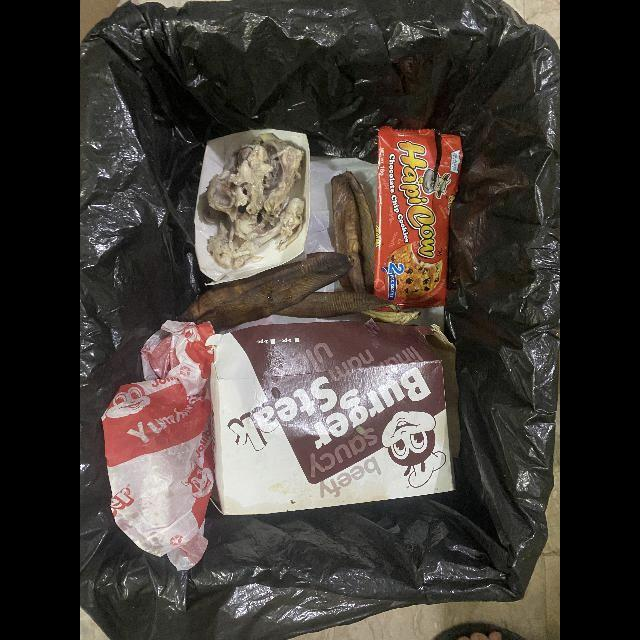cardboard: (204, 315, 460, 517), (194, 129, 310, 283)
food_wrapper: (373, 126, 463, 310)
left_over_food: (207, 134, 305, 269)
paper: (101, 320, 215, 573)
